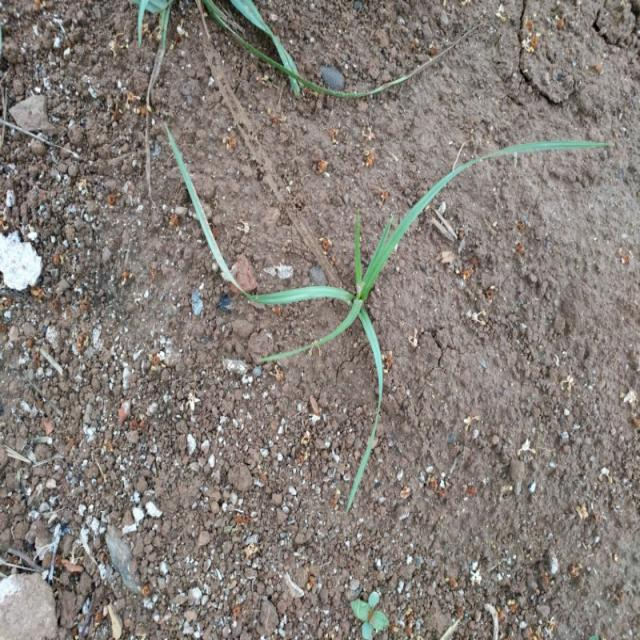sedge: (218, 118, 560, 456)
